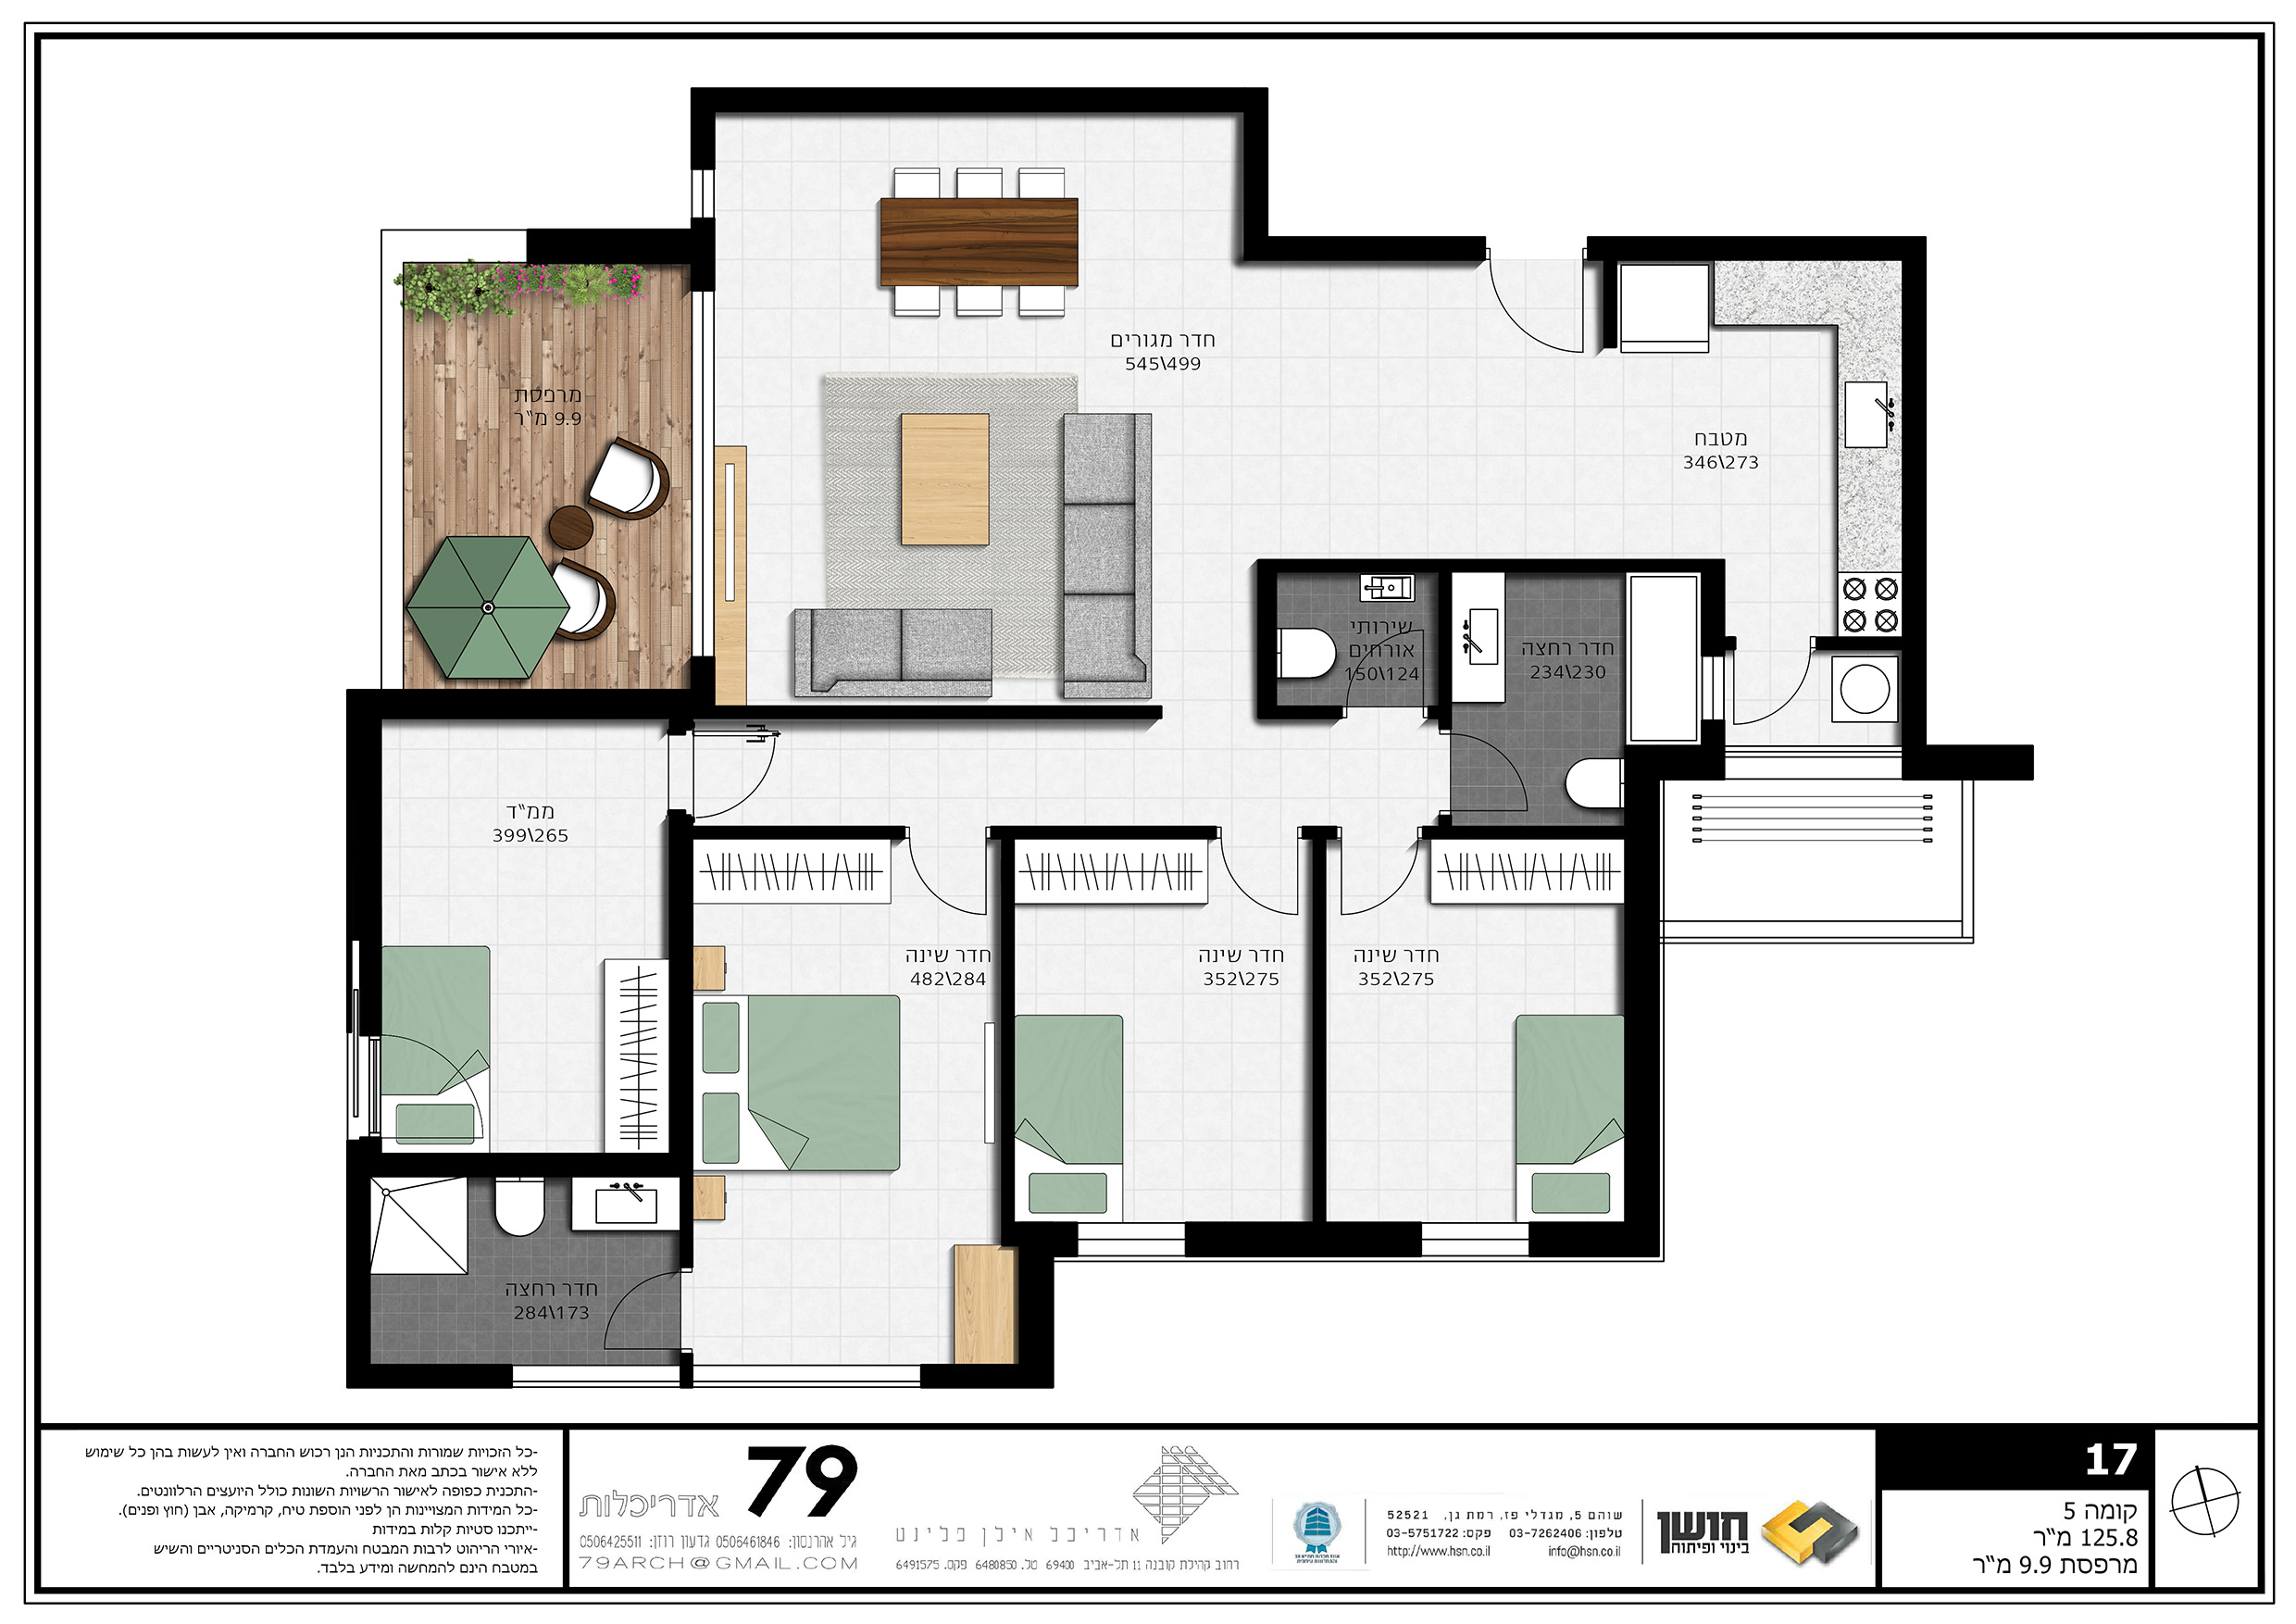door: (1476, 286, 1599, 366), (708, 721, 803, 819), (1460, 722, 1534, 817), (906, 858, 998, 921), (1332, 868, 1414, 926), (1224, 866, 1305, 924), (1732, 664, 1806, 728), (601, 1276, 653, 1355)
wall: (1625, 759, 1662, 1257), (1904, 241, 1929, 779), (692, 90, 1267, 112), (379, 687, 713, 717), (668, 810, 692, 1174), (1590, 236, 1927, 258), (1189, 1220, 1419, 1253), (348, 689, 379, 932), (348, 1153, 690, 1174), (1000, 840, 1015, 1241), (1254, 559, 1725, 571), (1528, 1220, 1660, 1258), (1247, 239, 1483, 260), (348, 1176, 371, 1388), (717, 707, 1158, 717), (1920, 745, 2036, 780), (369, 1364, 511, 1392), (1244, 112, 1270, 257), (1254, 562, 1277, 715), (1261, 703, 1342, 719)
window: (692, 292, 711, 654), (1075, 1222, 1186, 1258), (515, 1369, 680, 1388), (1723, 747, 1904, 756), (1702, 659, 1722, 719), (692, 167, 713, 218)
